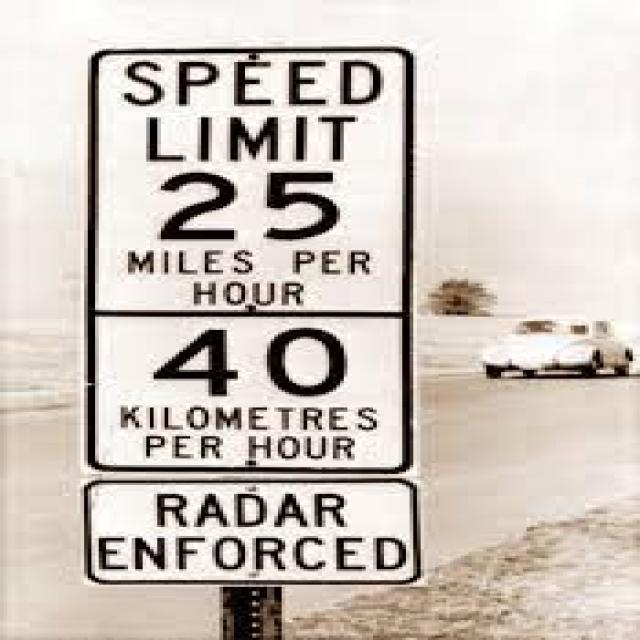speedLimit25: (77, 36, 413, 310)
